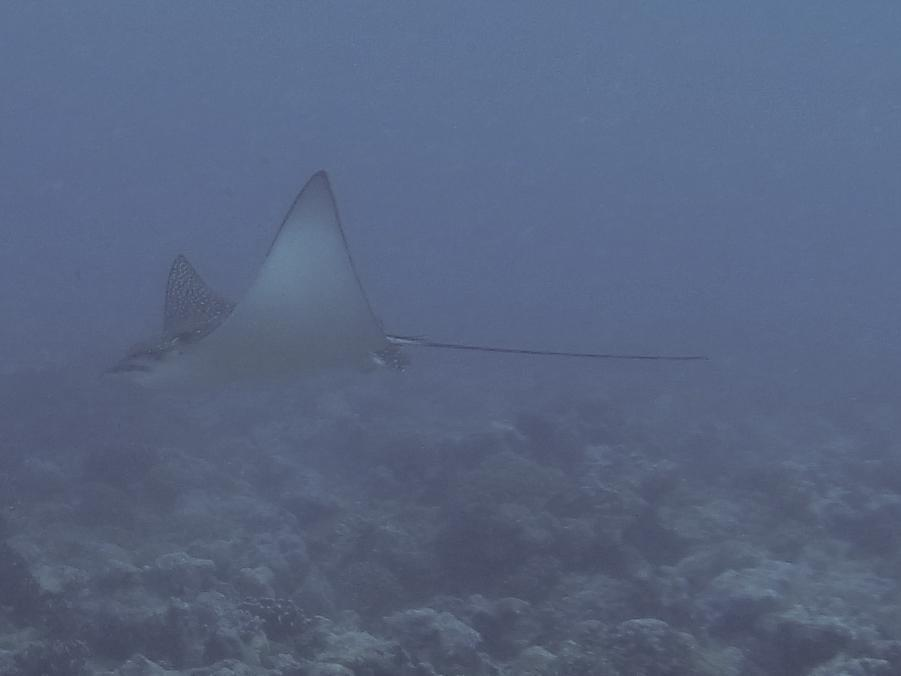Fish: (82, 168, 720, 432)
